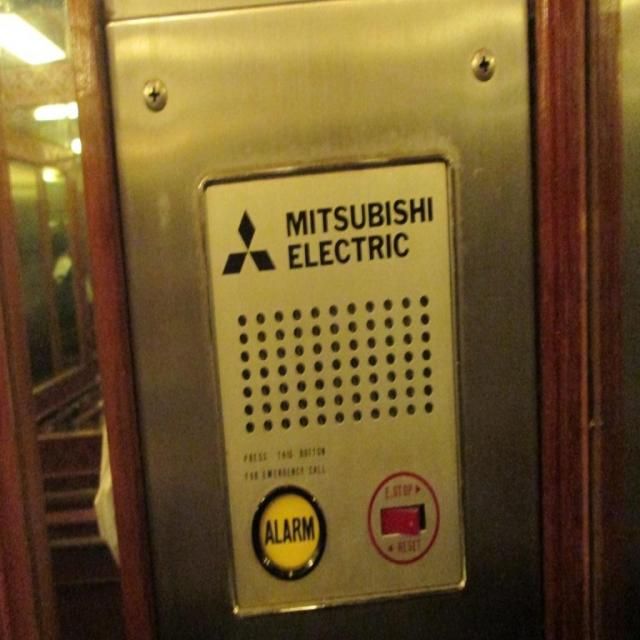bt_switch: (363, 464, 442, 566)
text_alarm bell: (248, 480, 328, 582)
